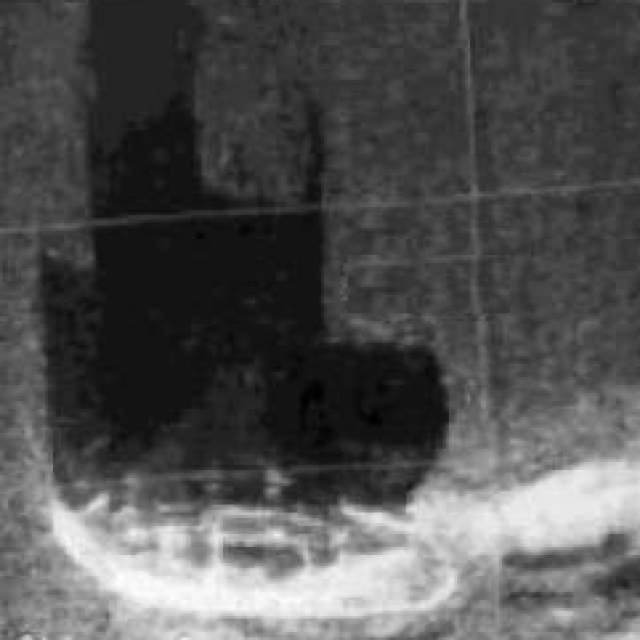Ship: (40, 446, 475, 640)
